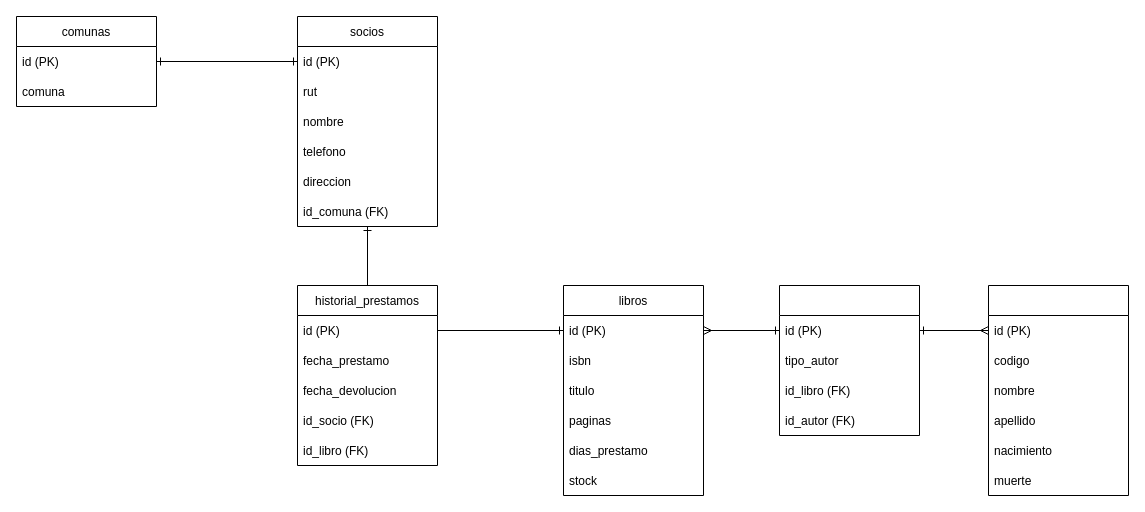
The diagram is 1145 pixels wide and 512 high, and some of its shapes have lost their labels. The box of each missing label's shape, as (x1, y1, x2, y2) in pixels:
autores: (988, 284, 1128, 496)
libros_autores: (778, 284, 920, 436)
